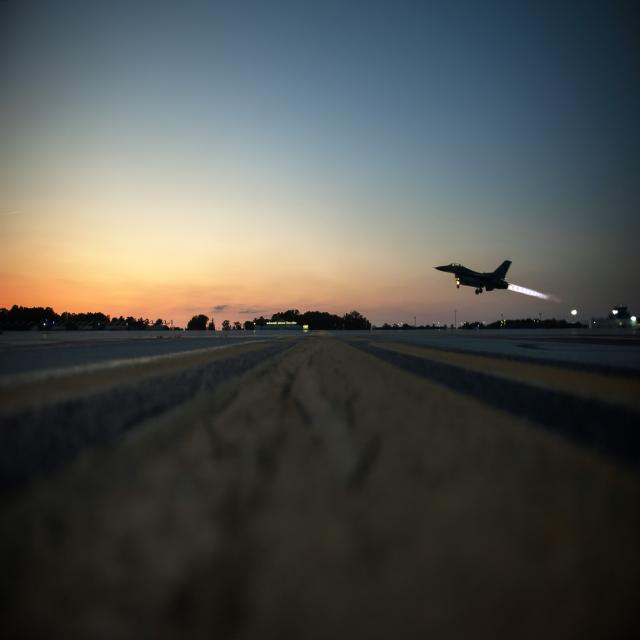MIL_Plane: (432, 260, 512, 295)
